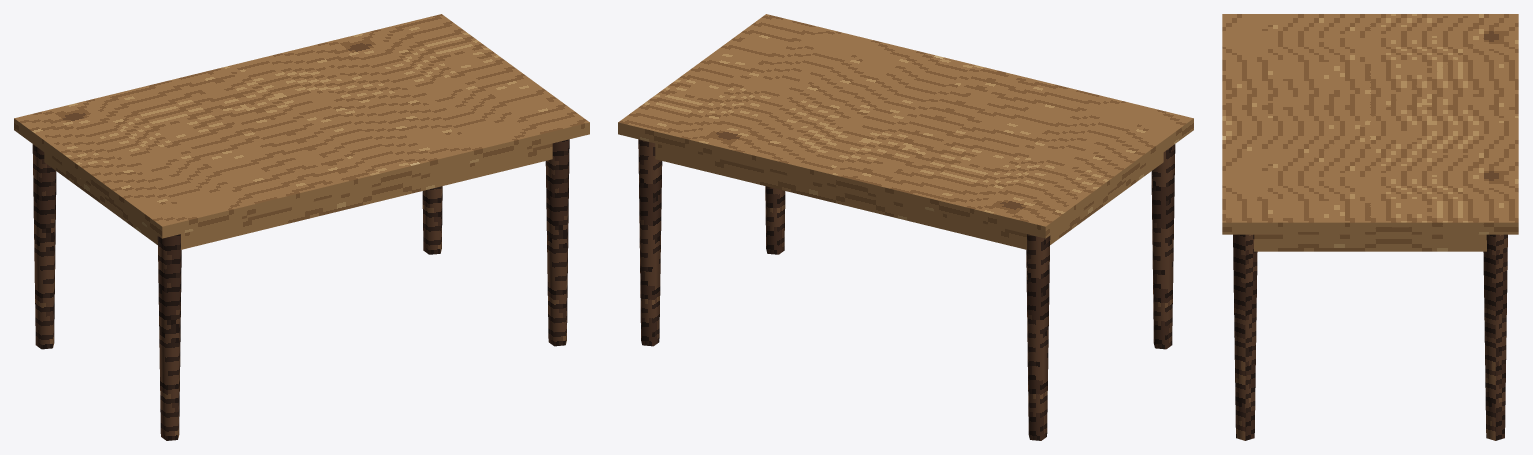
The model's file is RES_DiningTable_Rect.obj.
3 renders of one model, left to right at view 1: azimuth 30°, elevation 25°; view 2: azimuth 150°, elevation 25°; view 3: azimuth 270°, elevation 25°, orthographic.
Parts seen in each view (by area): view 1: RES_DiningTable_Rect_Mesh_M_Furn_WoodLight, RES_DiningTable_Rect_Mesh_M_Furn_WoodDark; view 2: RES_DiningTable_Rect_Mesh_M_Furn_WoodLight, RES_DiningTable_Rect_Mesh_M_Furn_WoodDark; view 3: RES_DiningTable_Rect_Mesh_M_Furn_WoodLight, RES_DiningTable_Rect_Mesh_M_Furn_WoodDark.
Part boxes in pixels (x1=…): RES_DiningTable_Rect_Mesh_M_Furn_WoodLight: x1=14, y1=14, x2=589, y2=249; RES_DiningTable_Rect_Mesh_M_Furn_WoodDark: x1=32, y1=139, x2=569, y2=440; RES_DiningTable_Rect_Mesh_M_Furn_WoodLight: x1=618, y1=14, x2=1193, y2=249; RES_DiningTable_Rect_Mesh_M_Furn_WoodDark: x1=638, y1=139, x2=1175, y2=440; RES_DiningTable_Rect_Mesh_M_Furn_WoodLight: x1=1222, y1=14, x2=1518, y2=251; RES_DiningTable_Rect_Mesh_M_Furn_WoodDark: x1=1233, y1=234, x2=1507, y2=440.
Bounding box in the file's own units: 1.5 × 0.75 × 0.9.
Materials: 2 (2 with a texture image).
